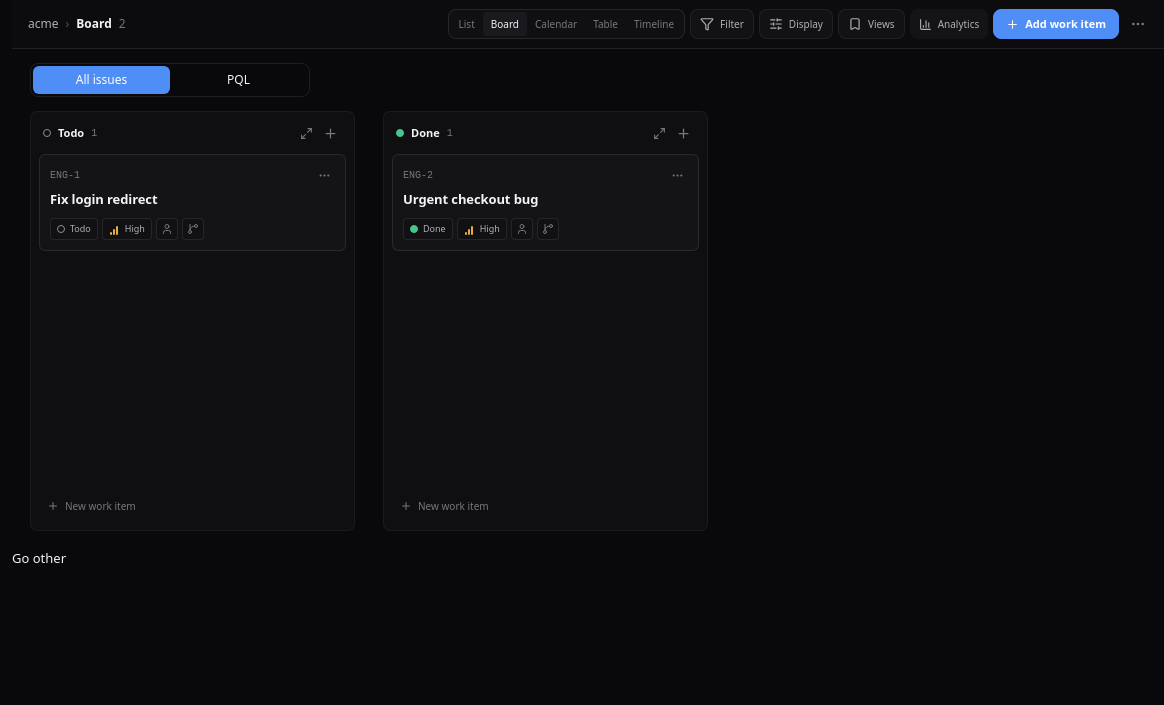
Test: board PQL mode (C96T0) › PQL editor on the board hides the save hint
The image size is (1164, 705).
Check: the text "Fix login redirect" is shown, box [50, 190, 157, 208]
Check: the text "Urgent checkout bug" is shown, box [403, 190, 538, 208]
Click the button "PQL". click: {"x": 238, "y": 80}
box: [170, 66, 307, 94]
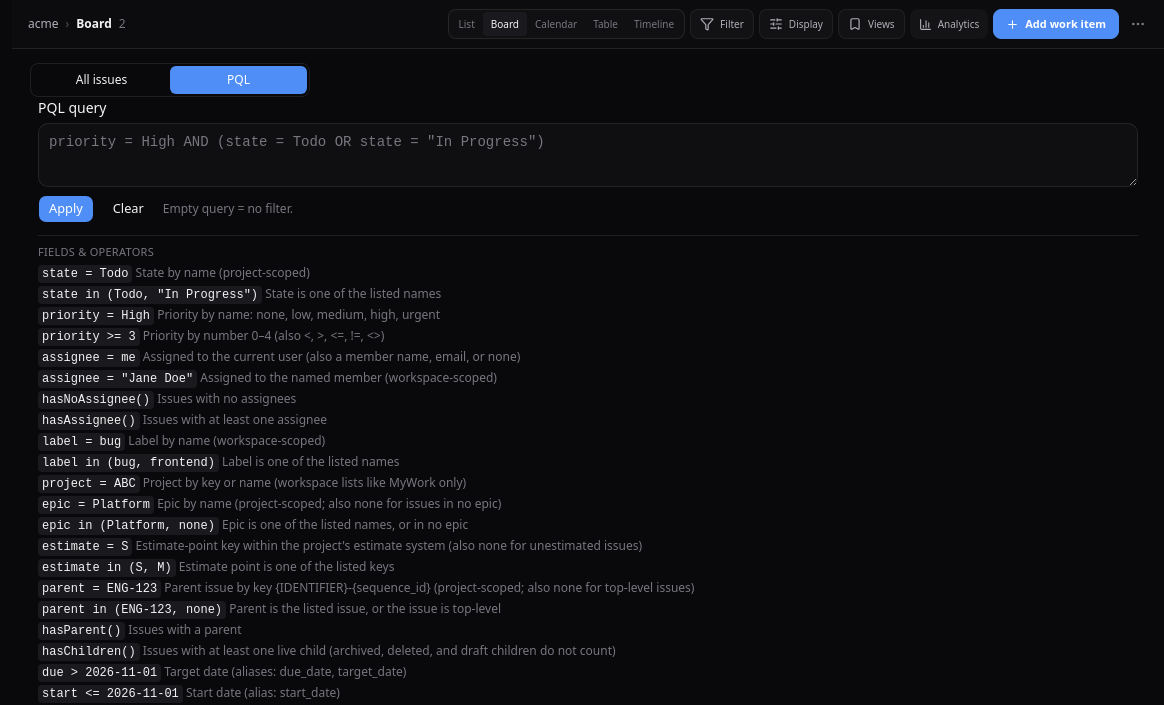
Check: the text box labelled "PQL query" is shown, box [38, 123, 1138, 187]
